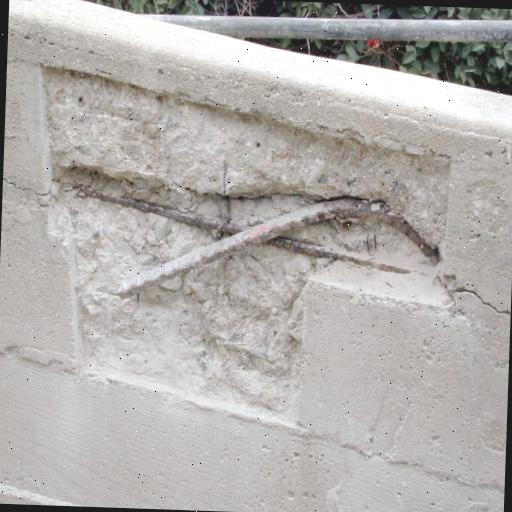spalling: (42, 68, 448, 416), (459, 270, 511, 330)
